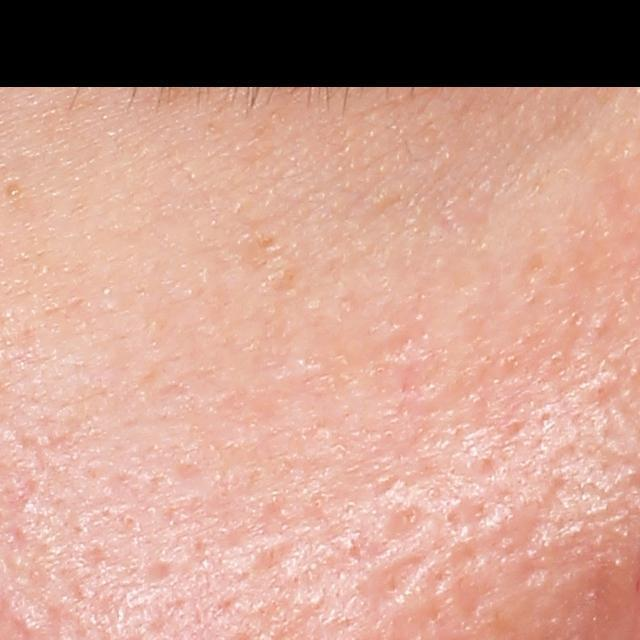atrophic_scar: (349, 556, 423, 620)
melasma: (147, 76, 207, 111), (239, 232, 284, 273)
